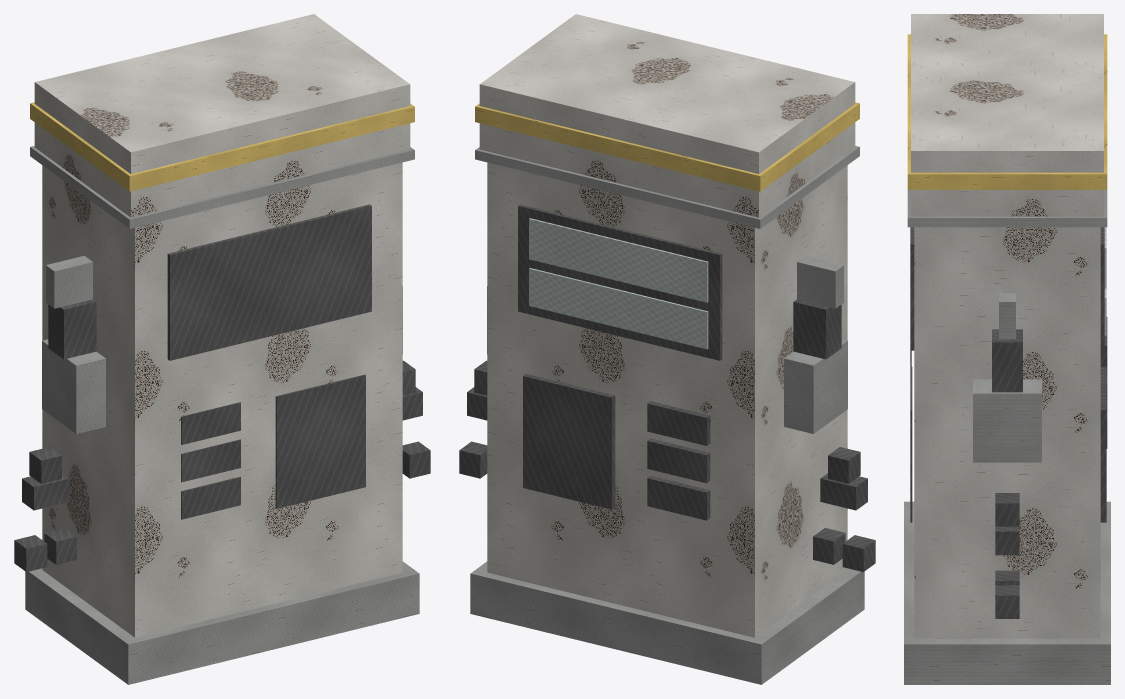
File: pump.glb
3 renders of one model, left to right at view 1: azimuth 30°, elevation 25°; view 2: azimuth 150°, elevation 25°; view 3: azimuth 270°, elevation 25°, orthographic.
Visible parts, largest first — view 1: NC_pump; view 2: NC_pump; view 3: NC_pump.
Part boxes in pixels (box(x1,y1,x2,y2)): NC_pump: box(14, 14, 430, 684); NC_pump: box(459, 14, 875, 684); NC_pump: box(904, 14, 1110, 684).
Size of the model in its own units: 1.36 by 1.7 by 0.6.
Materials: 5 (5 with a texture image).
